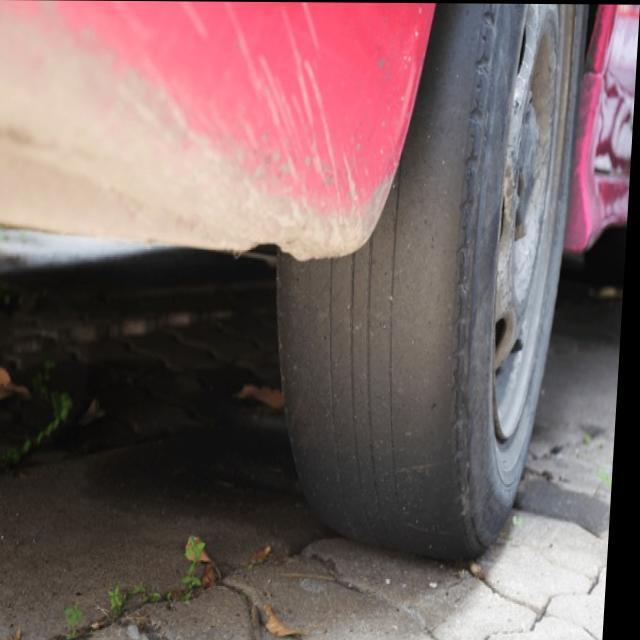Flat spots: (287, 272, 468, 544)
